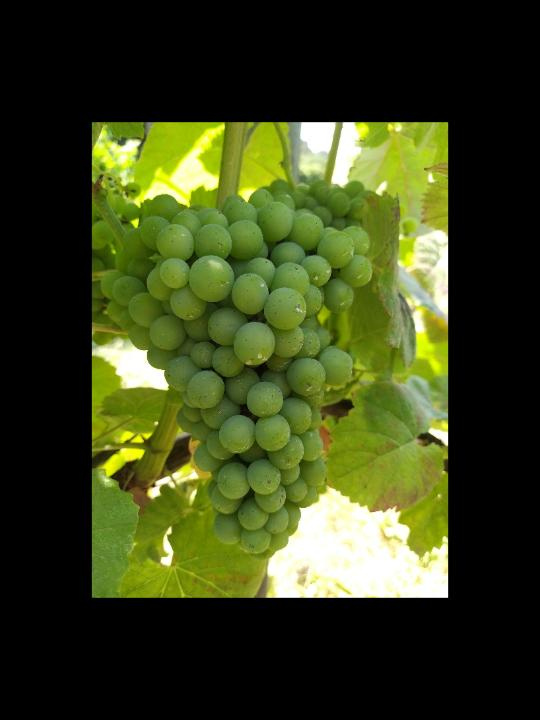grape: (99, 190, 374, 559)
